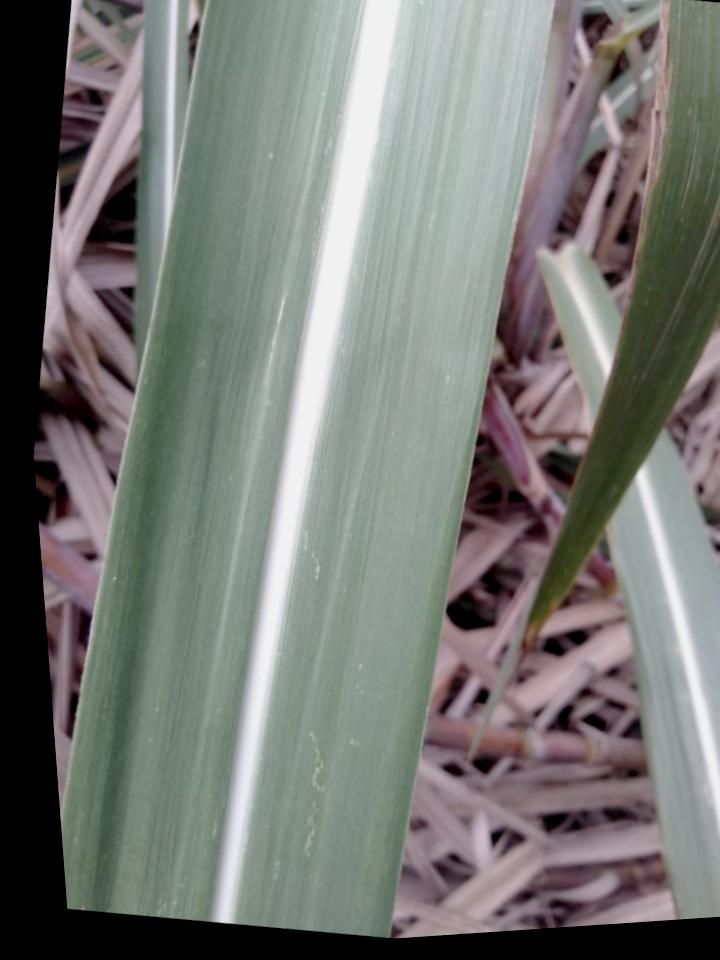Healthy: (61, 0, 555, 937)
